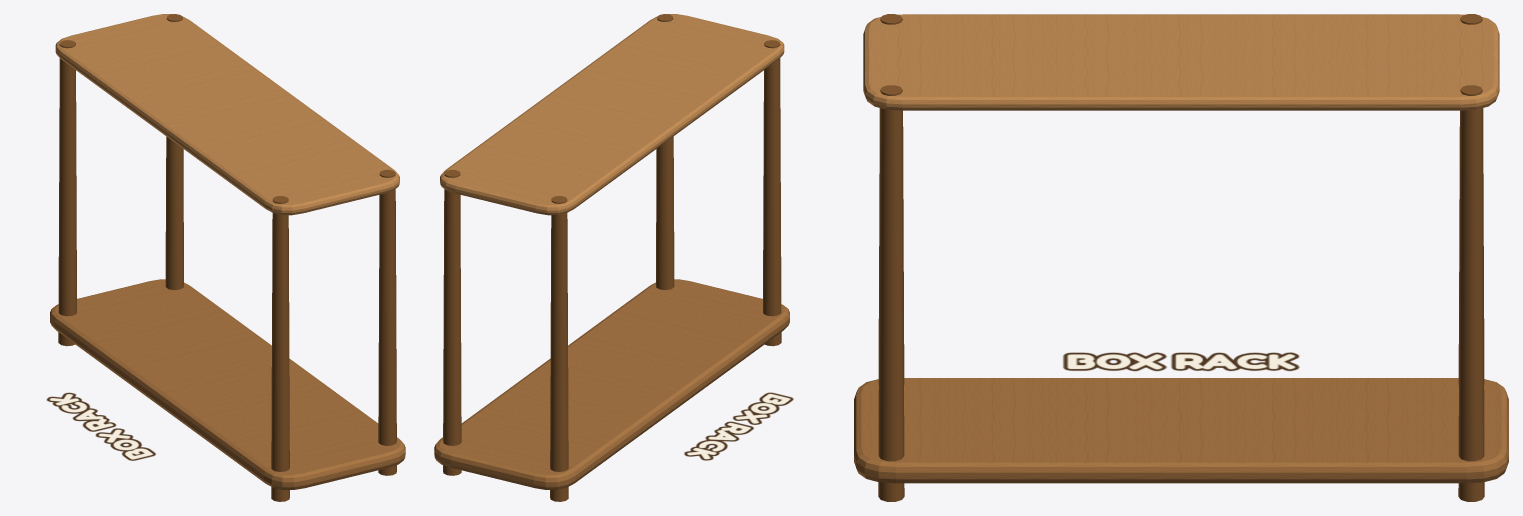
The model's file is box-rack.glb.
The picture shows the model from 3 angles, left to right: view 1: azimuth 30°, elevation 25°; view 2: azimuth 150°, elevation 25°; view 3: azimuth 270°, elevation 25°; orthographic projection. The views are drawn at different scales.
Size of the model in its own units: 1.85 by 2.4 by 3.5.
4 materials, 3 textured.
